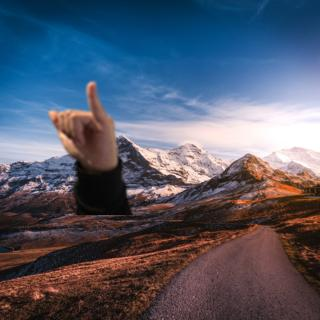HAVE: (45, 78, 119, 168)
